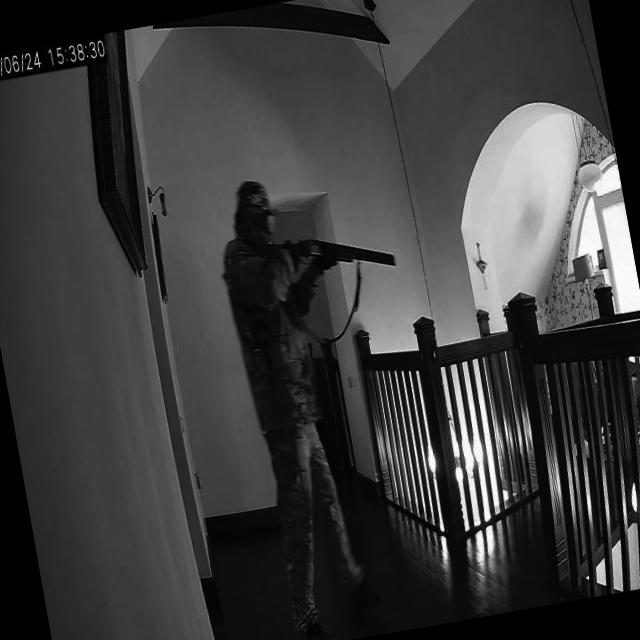gun: (250, 214, 399, 295)
person with a gun: (203, 153, 459, 640)
